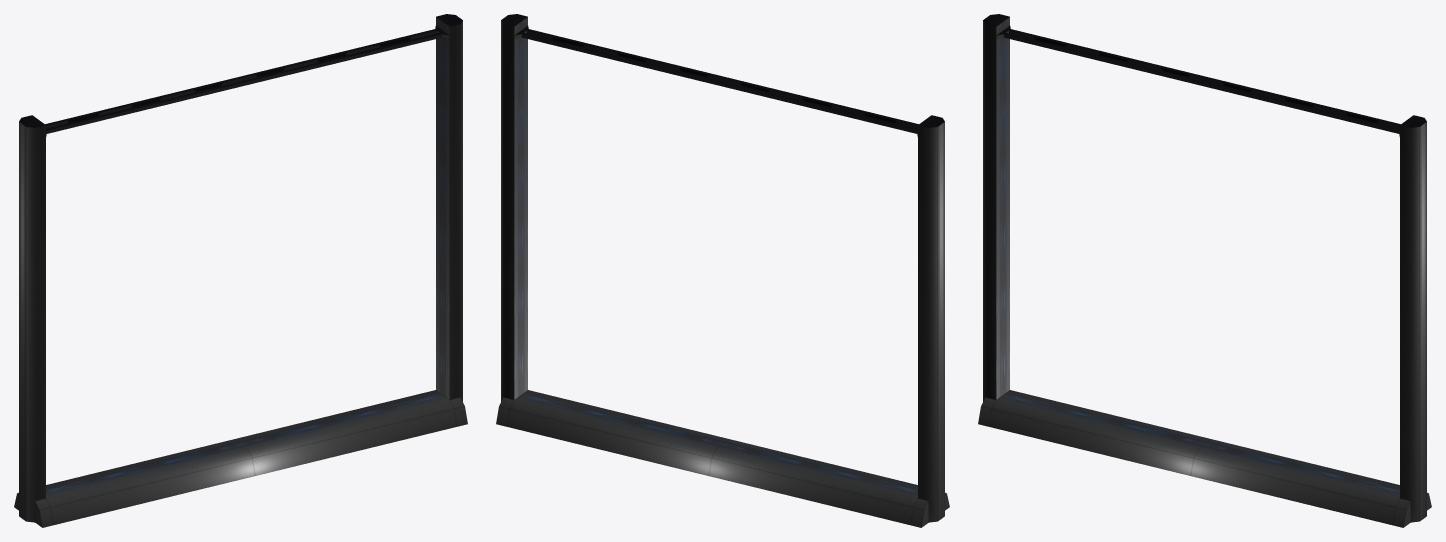
File: frame.obj
3 renders of one model, left to right at view 1: azimuth 30°, elevation 25°; view 2: azimuth 150°, elevation 25°; view 3: azimuth 330°, elevation 25°, orthographic.
Parts seen in each view (by area): view 1: realgameframe; view 2: realgameframe; view 3: realgameframe.
Part boxes in pixels (x1,y1,x2,y2): realgameframe: (14,14,467,527); realgameframe: (496,14,949,527); realgameframe: (978,14,1431,527).
Bounding box in the file's own units: 250 × 216 × 28.25.
1 material, 1 textured.
